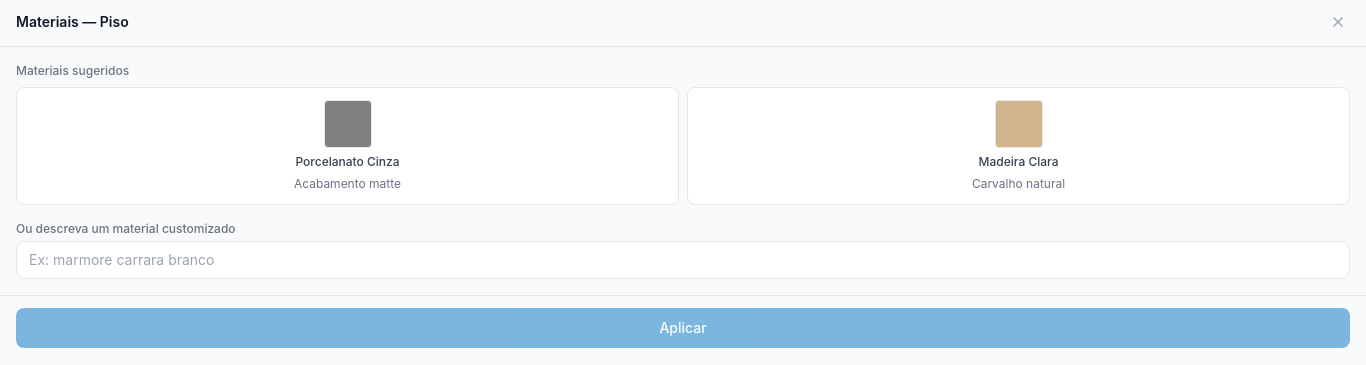
Test: MaterialPicker › enables apply when custom text entered
This screenshot has width=1366, height=365.
Type "granito preto" into the field with placeholder "Ex: marmore carrara branco". click: (683, 260)
box: [16,241,1350,279]
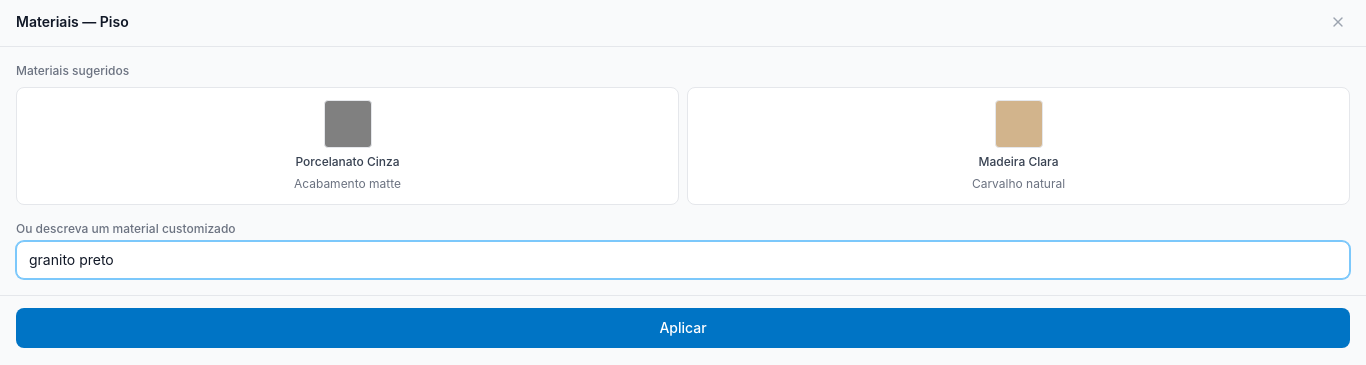
Expected: the button "Aplicar" is enabled, [16,308,1350,348]
